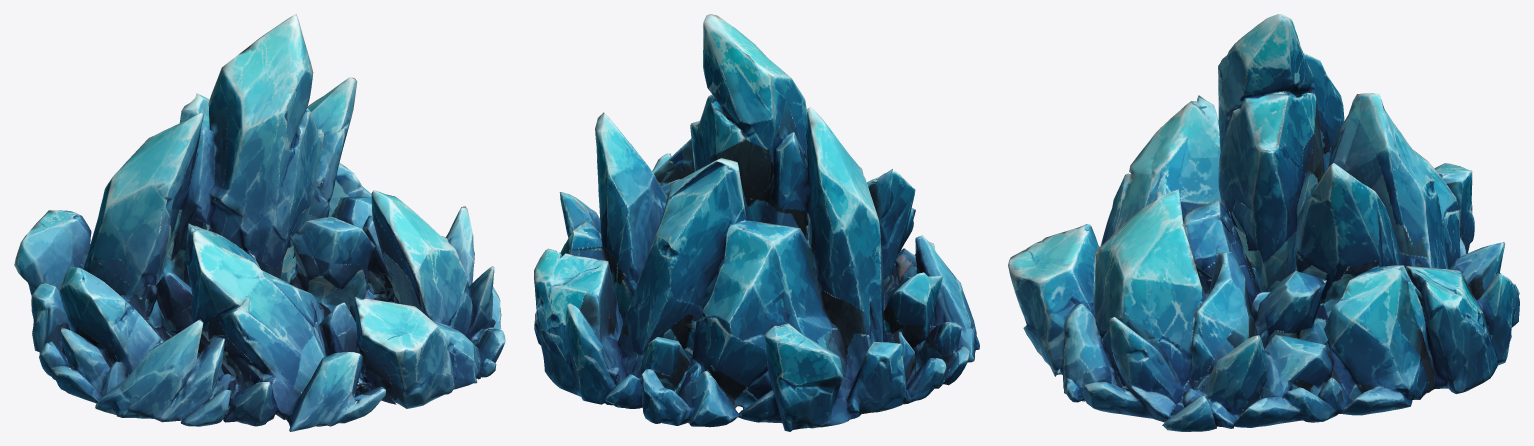
The model's file is IceShard_Large_A.fbx.
3 views of the same model, side by side, from view 1: azimuth 30°, elevation 25°; view 2: azimuth 150°, elevation 25°; view 3: azimuth 270°, elevation 25° (orthographic). The views are drawn at different scales.
Visible parts, largest first — view 1: texture_mapping; view 2: texture_mapping; view 3: texture_mapping.
Part boxes in pixels (box(x1,y1,x2,y2)): texture_mapping: box(14, 14, 505, 431); texture_mapping: box(534, 14, 979, 431); texture_mapping: box(1008, 14, 1519, 431).
Size of the model in its own units: 0.9954 by 0.9982 by 0.7325.
1 material, 1 textured.
